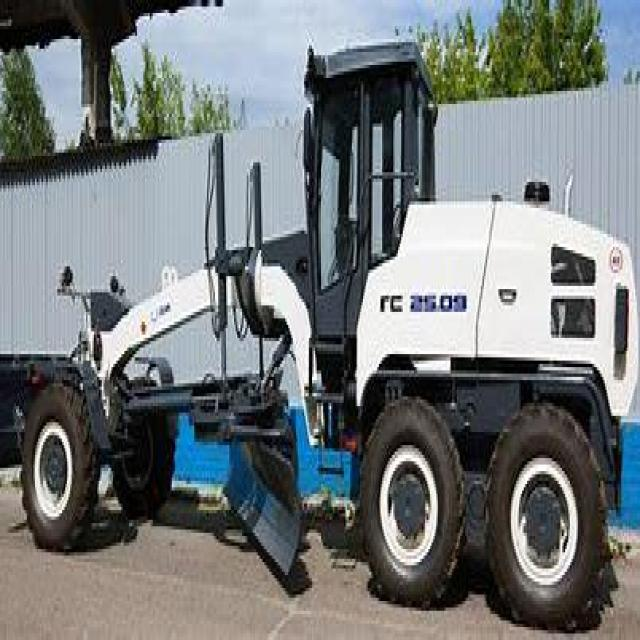Grader: (5, 29, 638, 611)
